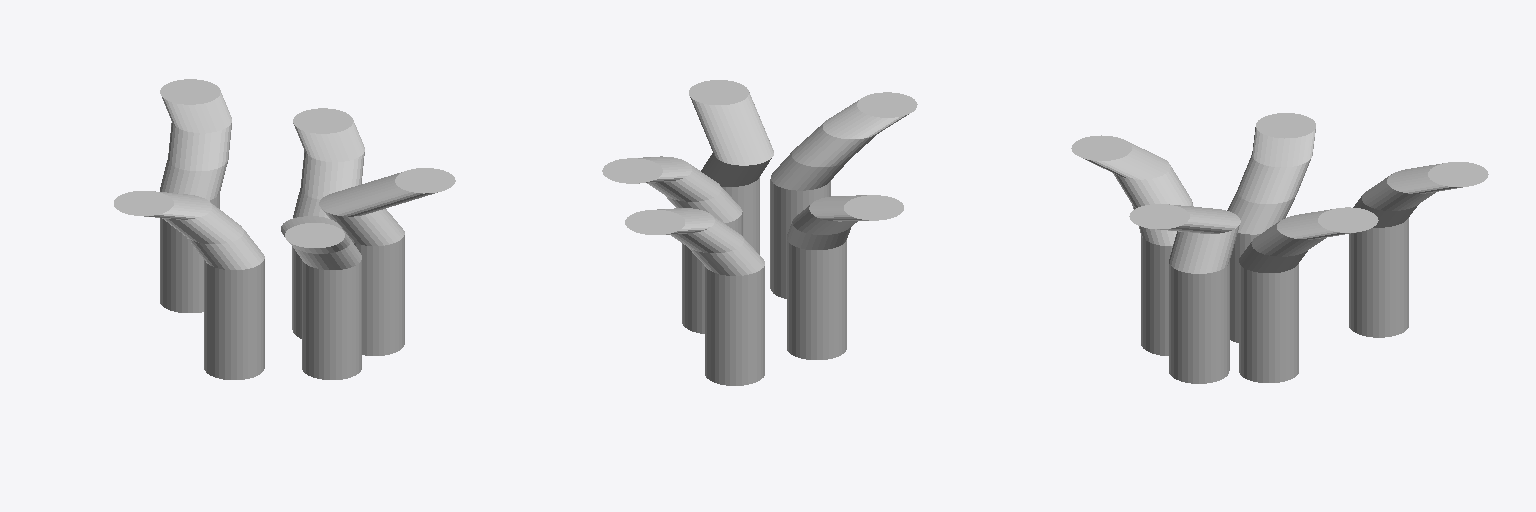
The model's file is grass.obj.
3 renders of one model, left to right at view 1: azimuth 30°, elevation 25°; view 2: azimuth 150°, elevation 25°; view 3: azimuth 270°, elevation 25°, orthographic.
Parts seen in each view (by area): view 1: Cylinder_Cylinder.004; view 2: Cylinder_Cylinder.004; view 3: Cylinder_Cylinder.004.
Boxes of the visible parts, <box> form: Cylinder_Cylinder.004: <box>114,79,455,379</box>; Cylinder_Cylinder.004: <box>602,80,917,385</box>; Cylinder_Cylinder.004: <box>1071,113,1488,383</box>.
Size of the model in its own units: 2.58 by 1.69 by 3.44.